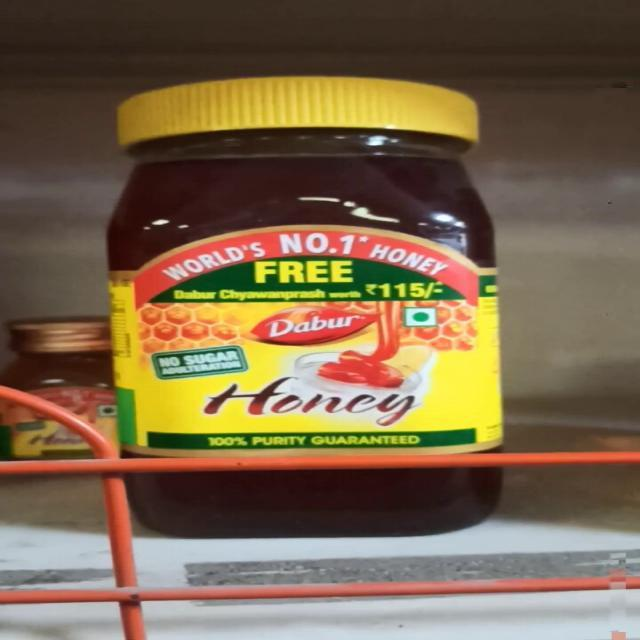Dabur Honey: (110, 72, 524, 536)
